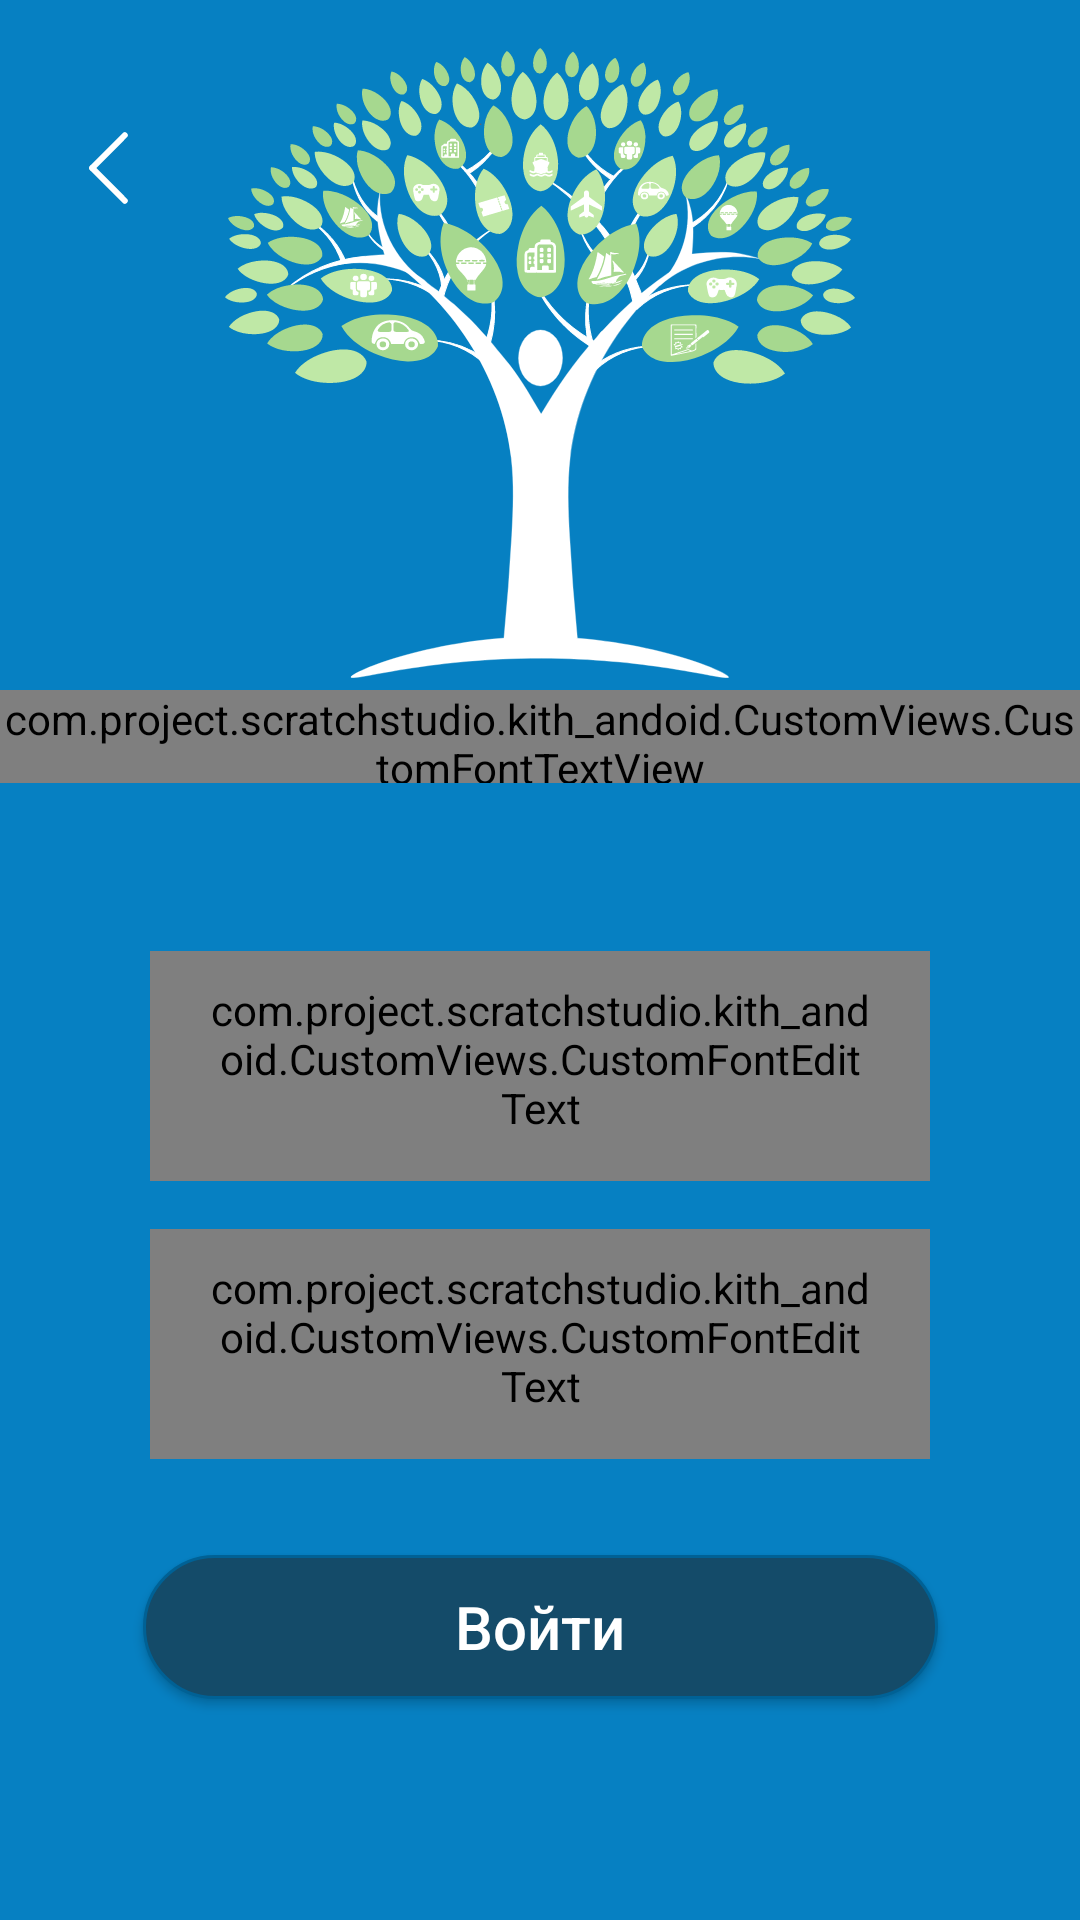

Locate icon controls on the screen. Image size 1080 × 1920, boxes as region(x1, y1, x2, y2).
left: region(89, 132, 128, 204)
